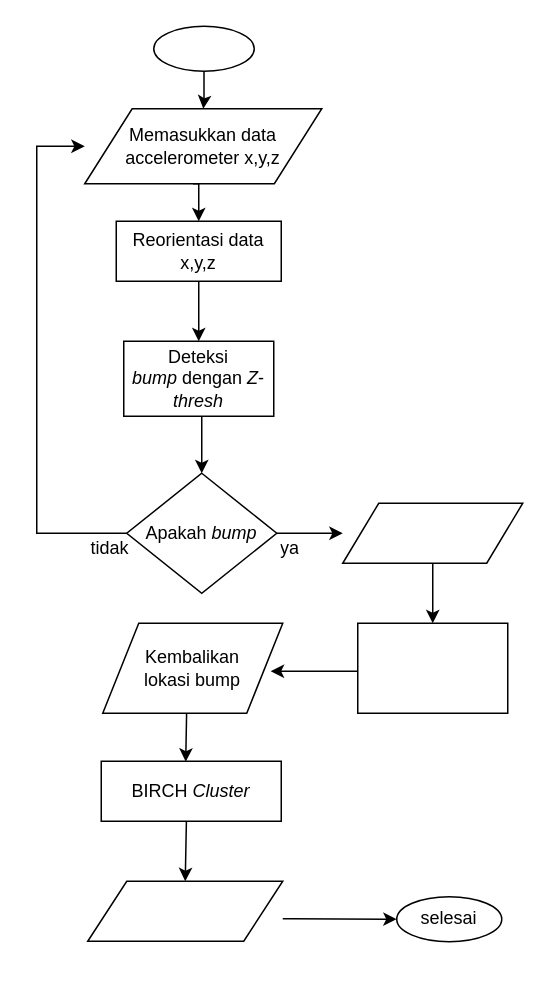
This 549x981 diagram has some shape labels left out. The shapes that lost their labels are listed below. From the top down, each one's box as (x1, y1, x2, y2) in pixels, then its label:
(152, 25, 254, 71): mulai
(341, 502, 523, 563): Kirim data ke server
(356, 622, 508, 713): Klasifikasi Decision Tree
(86, 880, 283, 941): Kembalikan titik koordinat cluster
